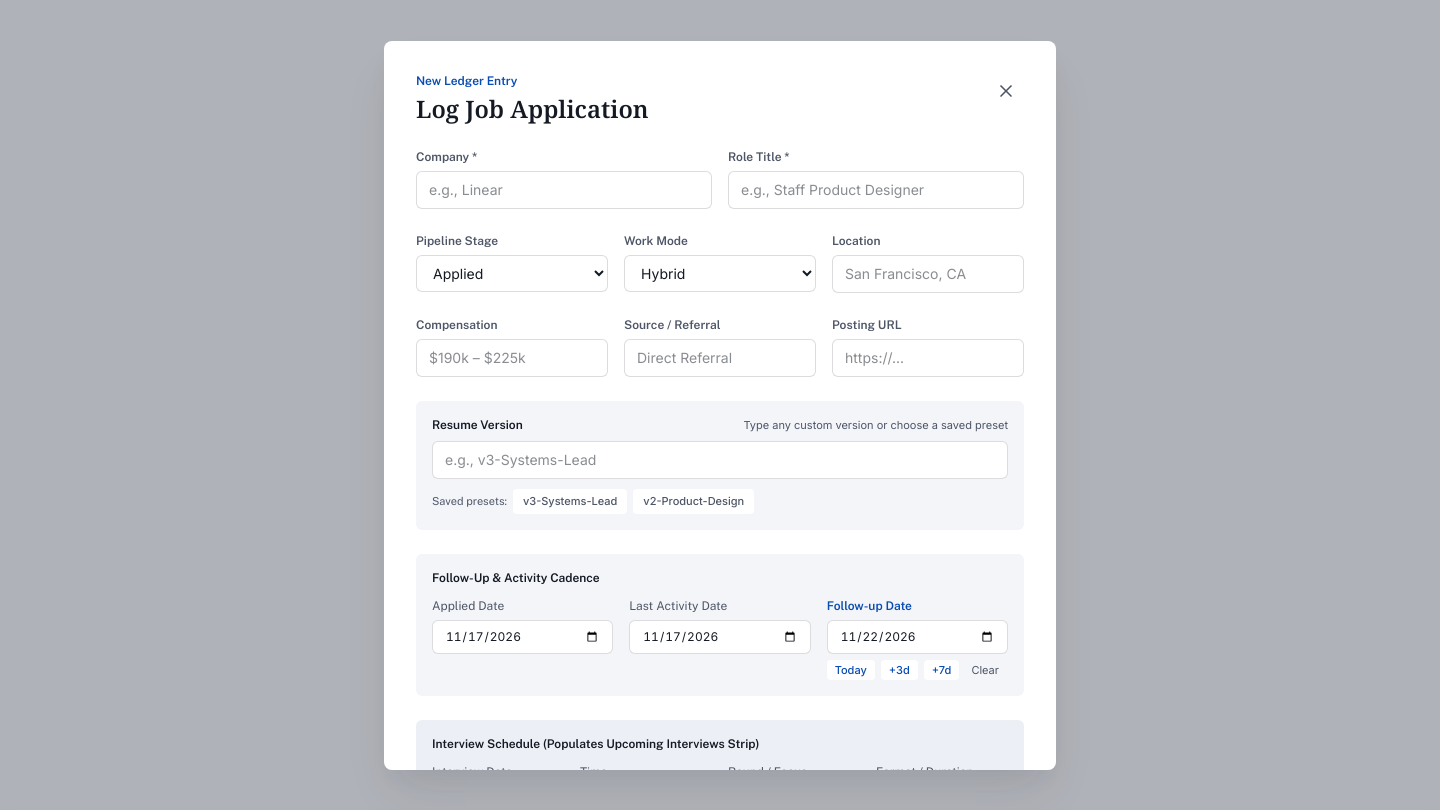
Component & Integration Tests: New and Existing BiteMyJob Features › supports editable resume version input and preset selection in ApplicationModal
Later steps or results of the test are not shown.
Type "Vercel" into the field with placeholder "e.g., Linear" at x=564, y=190, box [416, 170, 712, 208]
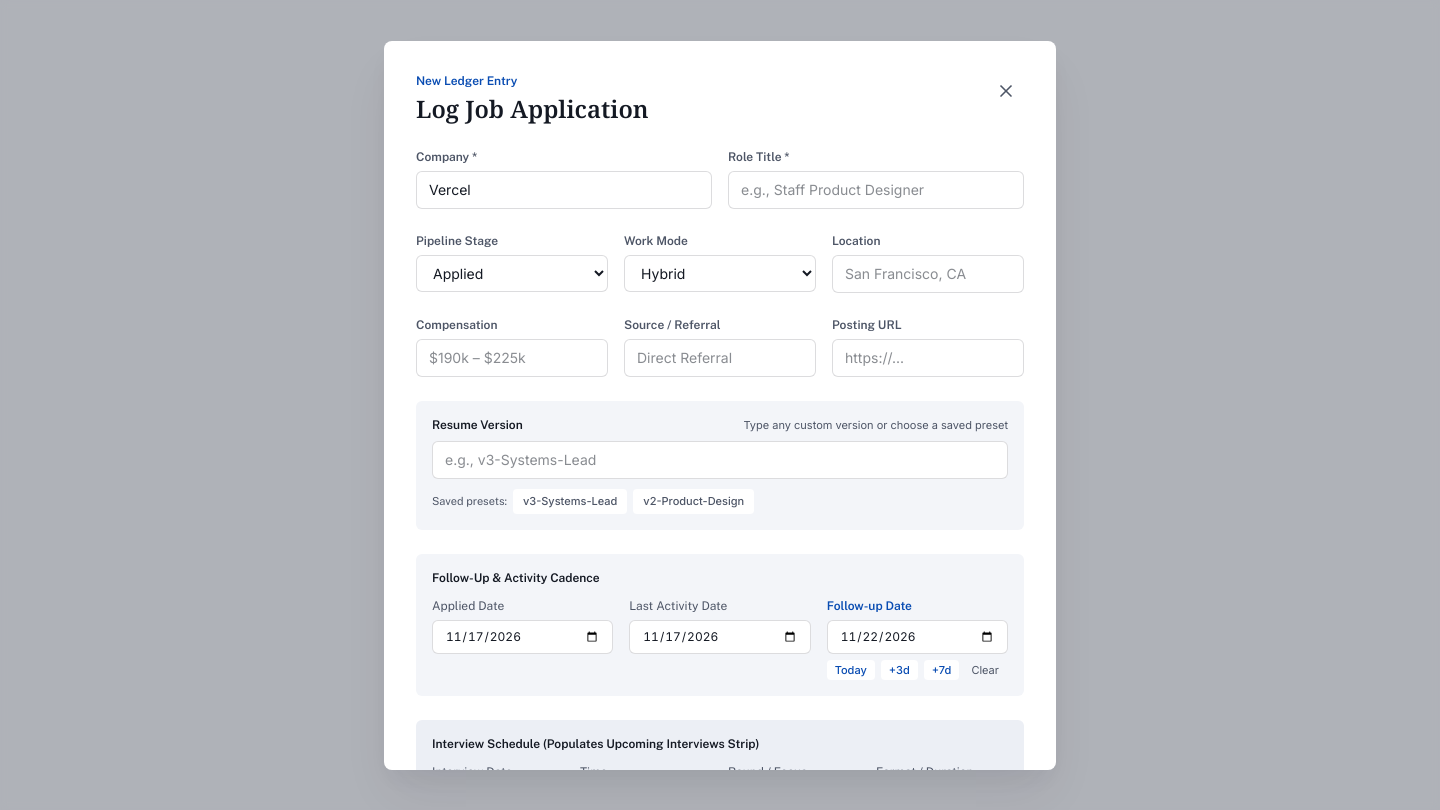
Type "Staff DX Engineer" into the field with placeholder "e.g., Staff Product Designer" at x=876, y=190, box [728, 170, 1024, 208]
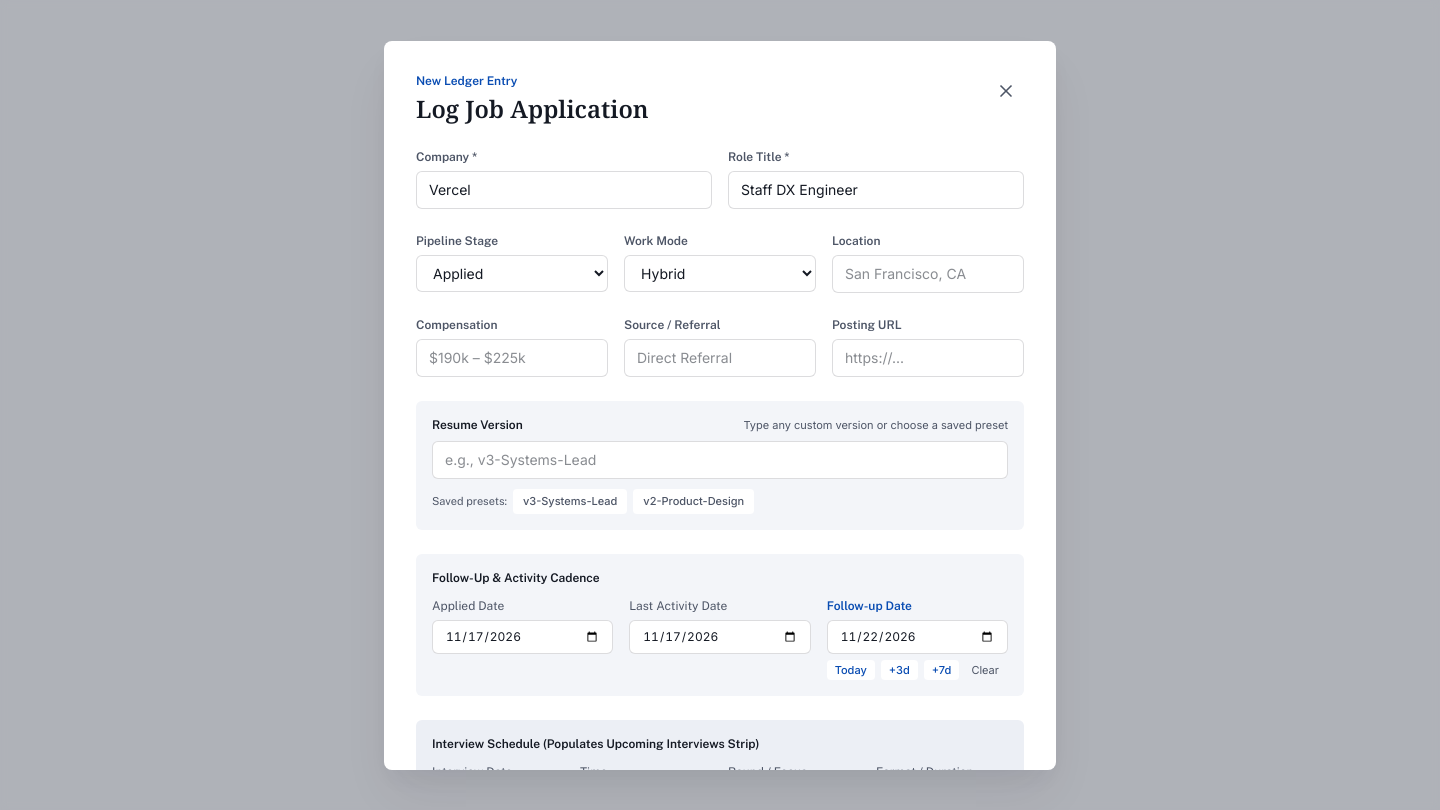
Note: Click saved preset chip, then customize via editable input
Click the button "v3-Systems-Lead" at x=570, y=501, box [513, 489, 627, 514]
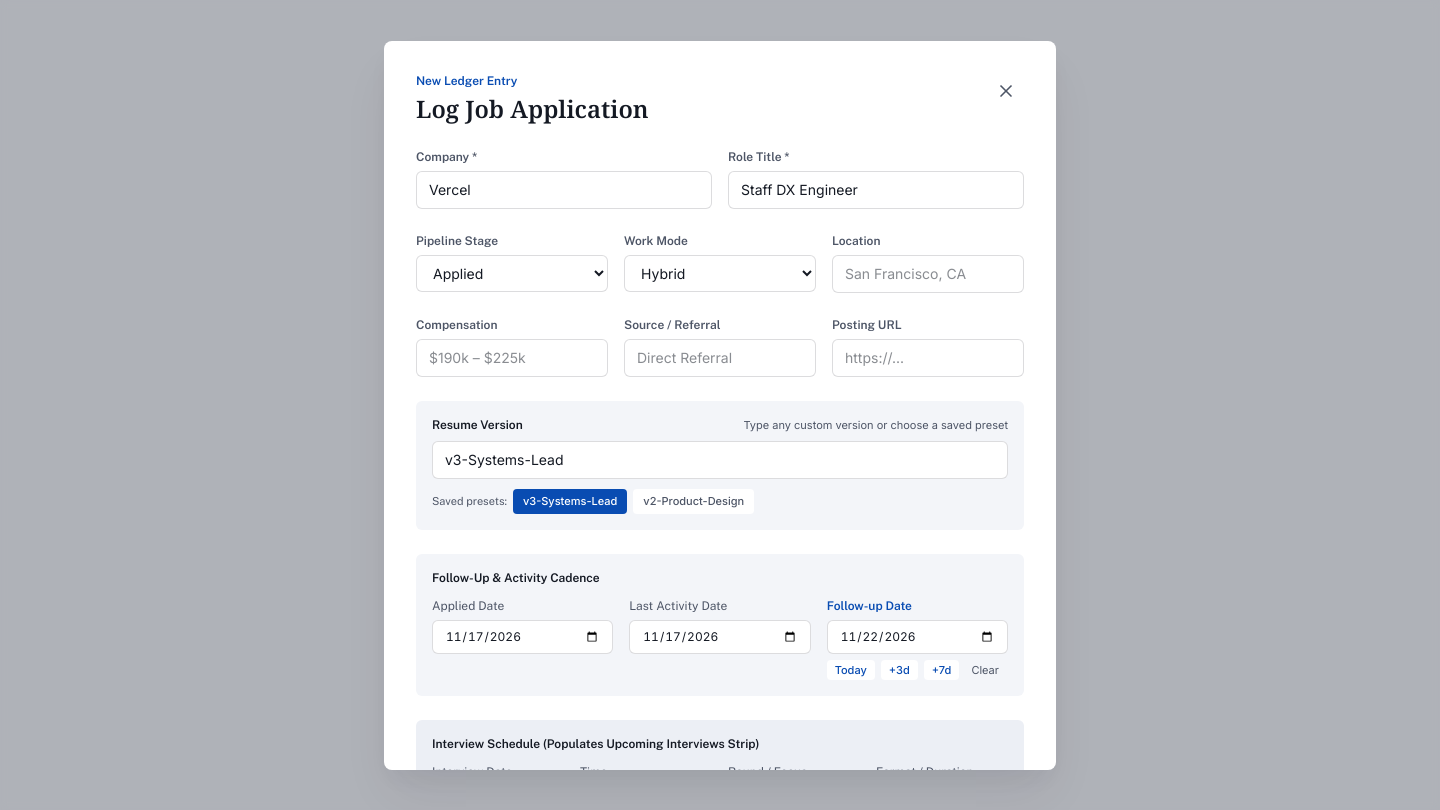
Now the field labelled "Resume Version" holds "v3-Systems-Lead", box [432, 441, 1008, 479]
